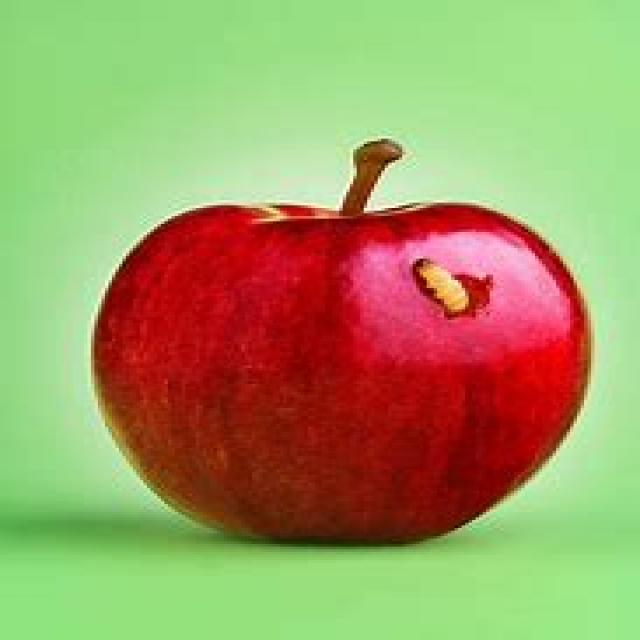Apple: (90, 139, 608, 561)
